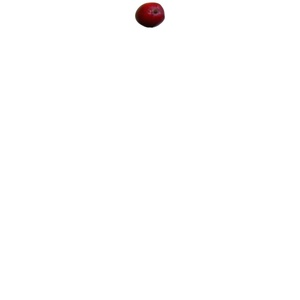manga: (135, 3, 165, 28)
